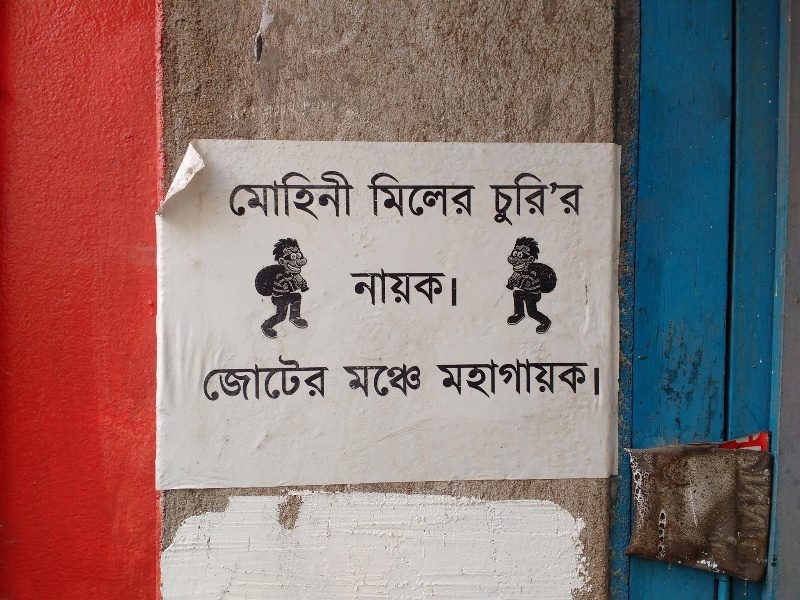text: (721, 427, 736, 568), (737, 427, 752, 568), (753, 427, 768, 568), (769, 427, 784, 568), (711, 427, 720, 568), (497, 169, 512, 229), (513, 169, 528, 229), (529, 169, 544, 229), (545, 169, 560, 229), (561, 169, 576, 229), (241, 167, 256, 224), (257, 167, 272, 224), (273, 167, 288, 224), (289, 167, 304, 224), (305, 167, 320, 224), (321, 167, 336, 224), (337, 167, 352, 224), (209, 349, 224, 403), (225, 349, 240, 403), (241, 349, 256, 403), (257, 349, 272, 403), (273, 349, 288, 403), (289, 349, 304, 403), (305, 349, 320, 403), (226, 167, 240, 224), (369, 170, 384, 220), (385, 170, 400, 220), (401, 170, 416, 220), (417, 170, 432, 220), (433, 170, 448, 220), (449, 170, 464, 220), (465, 170, 479, 220), (449, 354, 464, 400), (465, 354, 480, 400), (481, 354, 496, 400), (497, 354, 512, 400), (513, 354, 528, 400), (529, 354, 544, 400), (545, 354, 560, 400), (561, 354, 576, 400), (577, 354, 592, 400), (353, 267, 368, 310), (369, 267, 384, 310), (385, 267, 400, 310), (401, 267, 416, 310), (417, 267, 432, 310), (433, 267, 448, 310), (449, 267, 463, 310), (353, 360, 368, 400), (369, 360, 384, 400), (385, 360, 400, 400), (401, 360, 416, 400), (435, 354, 448, 400), (321, 349, 332, 403), (577, 169, 586, 229), (340, 360, 352, 400), (593, 354, 603, 400), (489, 169, 496, 229), (353, 167, 358, 224), (417, 360, 424, 400), (348, 267, 352, 310), (205, 349, 208, 403)
